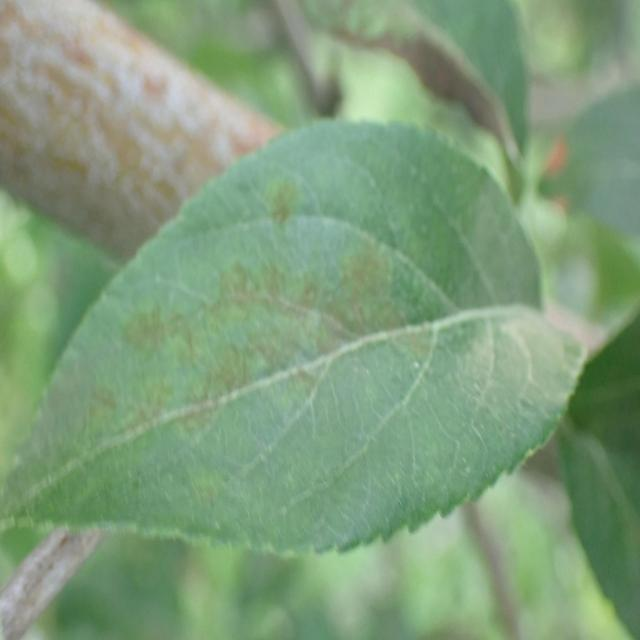scab: (15, 164, 566, 526)
